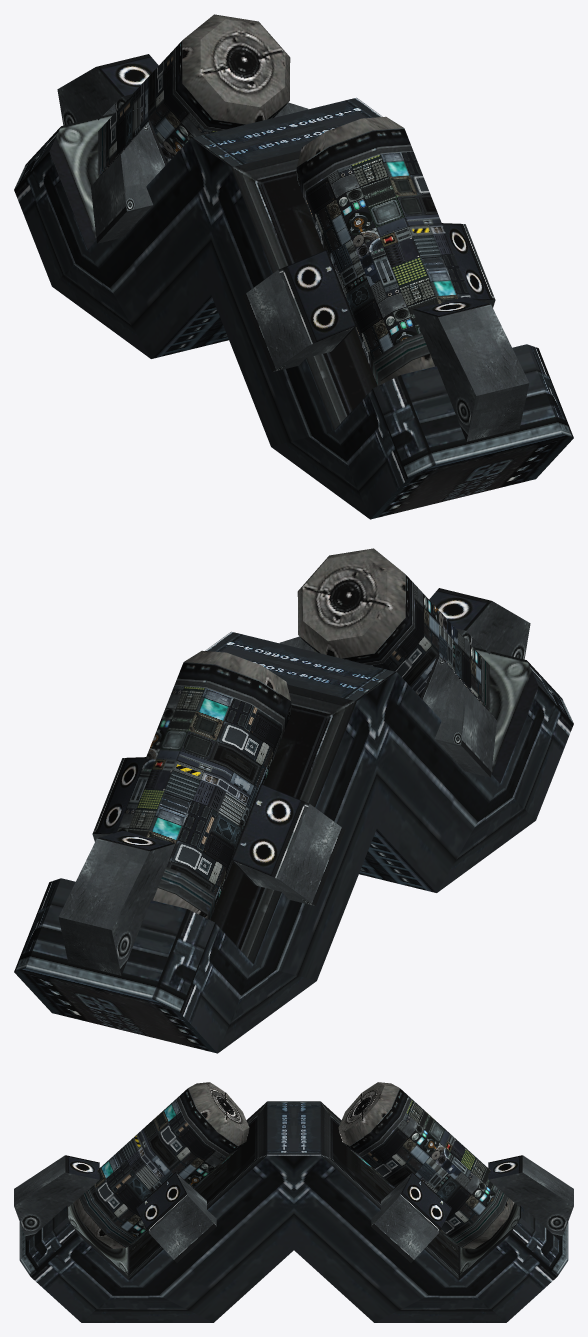
The model's file is Battery_rack01.FBX.
3 views of the same model, one above another, from view 1: azimuth 30°, elevation 25°; view 2: azimuth 150°, elevation 25°; view 3: azimuth 270°, elevation 25° (orthographic). The views are drawn at different scales.
Visible parts, largest first — view 1: Battery_rack01, Liquid; view 2: Battery_rack01, Liquid; view 3: Battery_rack01, Liquid.
Boxes of the visible parts, x1,y1,x2,y2 form: Battery_rack01: (14, 14, 573, 519); Liquid: (106, 50, 470, 372); Battery_rack01: (14, 548, 573, 1053); Liquid: (117, 584, 481, 906); Battery_rack01: (14, 1082, 573, 1322); Liquid: (90, 1099, 497, 1237).
Bounding box in the file's own units: 145 × 201 × 486.
